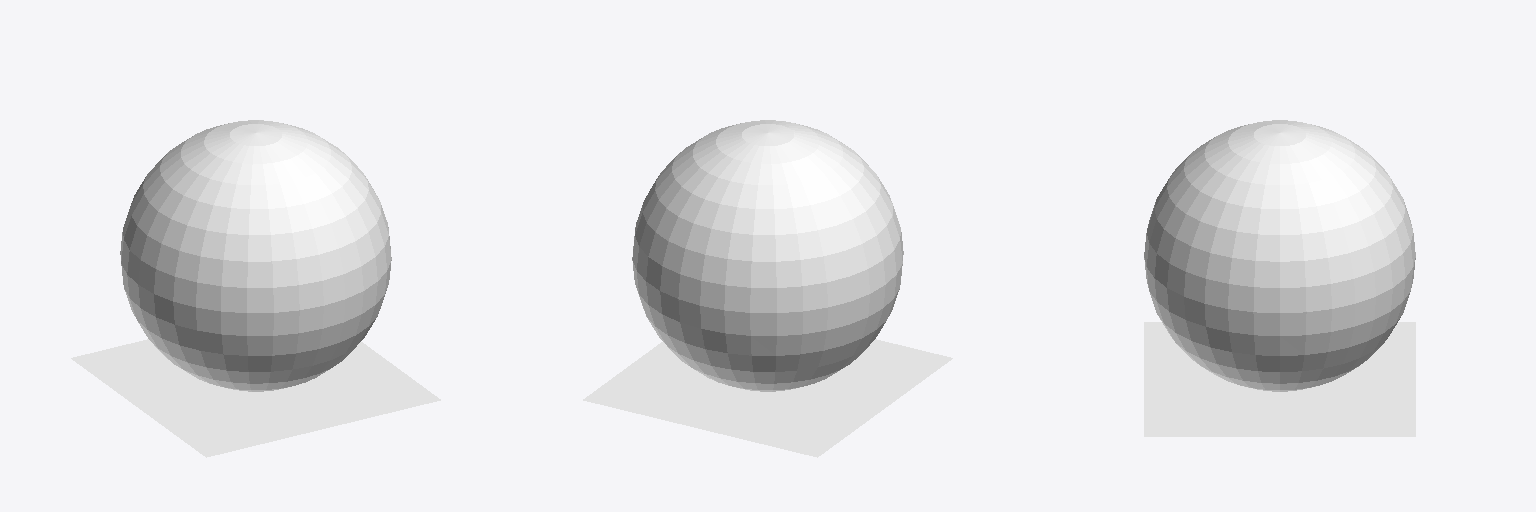
The model's file is ball.obj.
3 renders of one model, left to right at view 1: azimuth 30°, elevation 25°; view 2: azimuth 150°, elevation 25°; view 3: azimuth 270°, elevation 25°, orthographic.
Visible parts, largest first — view 1: ball, floor; view 2: ball, floor; view 3: ball, floor.
Part boxes in pixels (left/top/right/bottom): ball: left=120, top=120, right=391, bottom=391; floor: left=71, top=339, right=440, bottom=457; ball: left=632, top=120, right=903, bottom=391; floor: left=583, top=339, right=952, bottom=457; ball: left=1144, top=120, right=1415, bottom=391; floor: left=1144, top=322, right=1415, bottom=436.
Bounding box in the file's own units: 40 × 40 × 40.